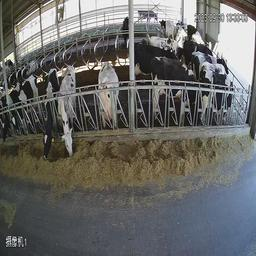cow: (148, 53, 201, 140), (7, 63, 38, 167), (198, 61, 240, 131), (36, 63, 59, 178), (57, 60, 81, 166), (91, 55, 121, 139), (134, 34, 182, 72), (190, 33, 230, 74), (158, 13, 179, 35), (119, 11, 130, 44)
